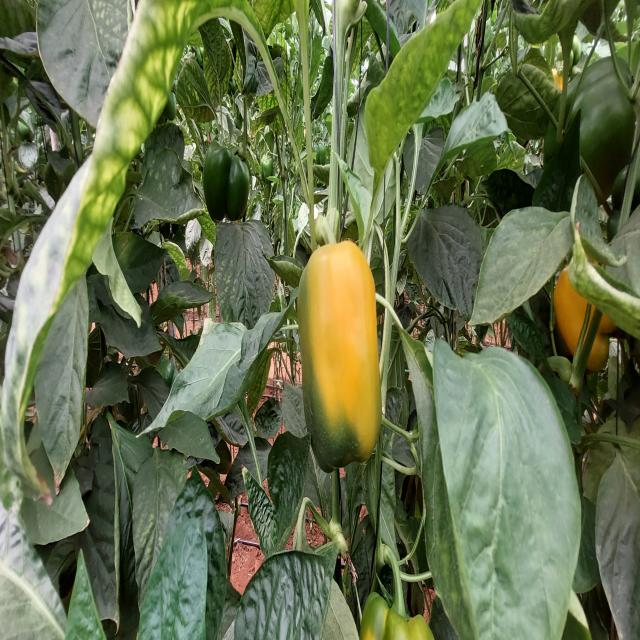Yellow-Ready-to-Harvest: (306, 240, 381, 450), (553, 264, 587, 355)
